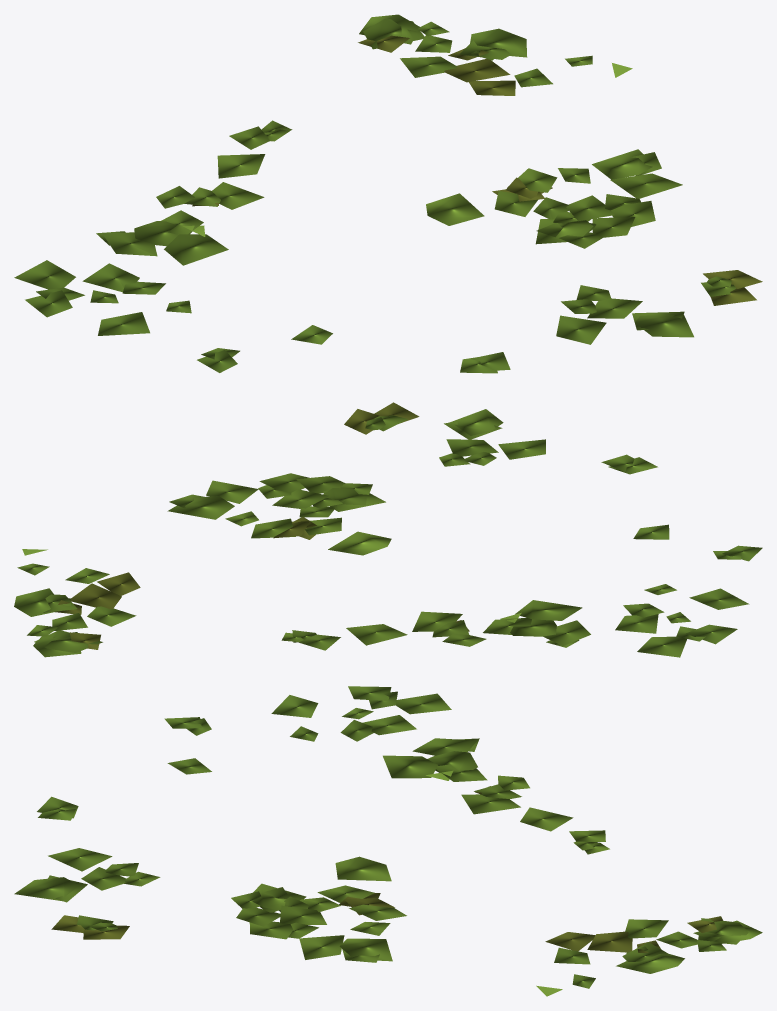
Rendered from mire_duckweed_lod2.glb.
3 renders of one model, top to bottom at view 1: azimuth 30°, elevation 25°; view 2: azimuth 150°, elevation 25°; view 3: azimuth 270°, elevation 25°, orthographic. The views are drawn at different scales.
Visible parts, largest first — view 1: mire_duckweed.001; view 2: mire_duckweed.001; view 3: mire_duckweed.001.
Part boxes in pixels (x1,y1,x2,y2): mire_duckweed.001: (14, 14, 762, 373); mire_duckweed.001: (14, 402, 762, 657); mire_duckweed.001: (14, 686, 762, 996).
Bounding box in the file's own units: 5.73 × 0.0224 × 5.84.
